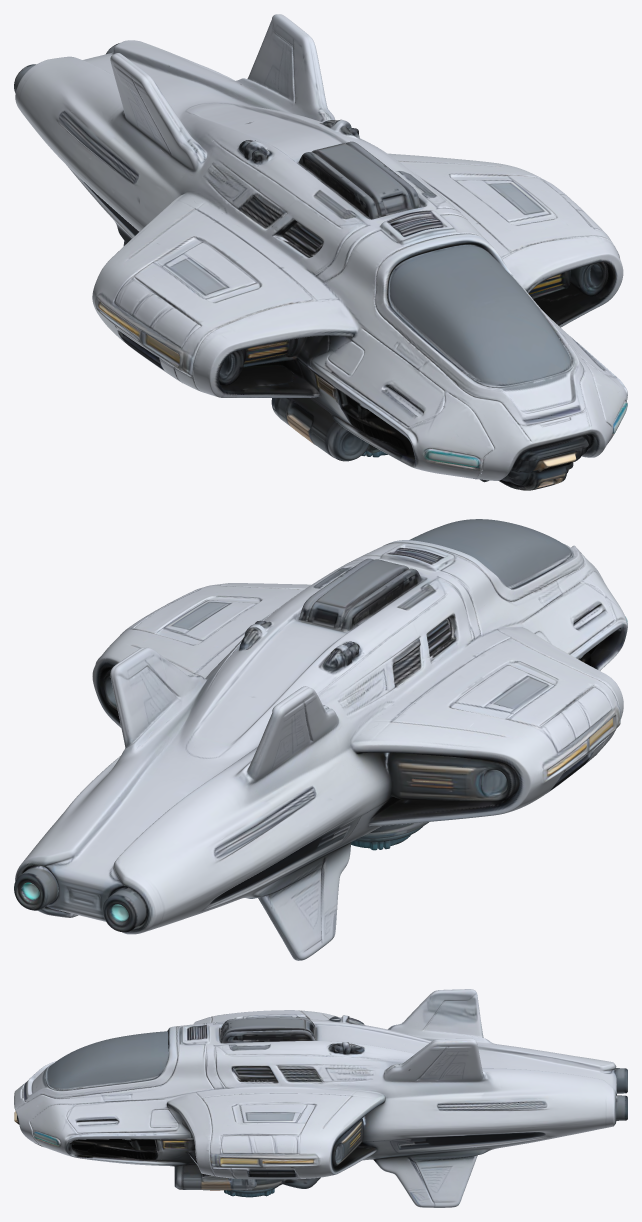
File: flight_suit.glb
3 views of the same model, one above another, from view 1: azimuth 30°, elevation 25°; view 2: azimuth 150°, elevation 25°; view 3: azimuth 270°, elevation 25° (orthographic). The views are drawn at different scales.
Visible parts, largest first — view 1: node_0; view 2: node_0; view 3: node_0.
Part boxes in pixels (<box>): node_0: <box>14,14,627,490</box>; node_0: <box>14,519,627,960</box>; node_0: <box>14,989,627,1207</box>.
Bounding box in the file's own units: 0.6366 × 0.3739 × 1.19.
1 material, 1 textured.
